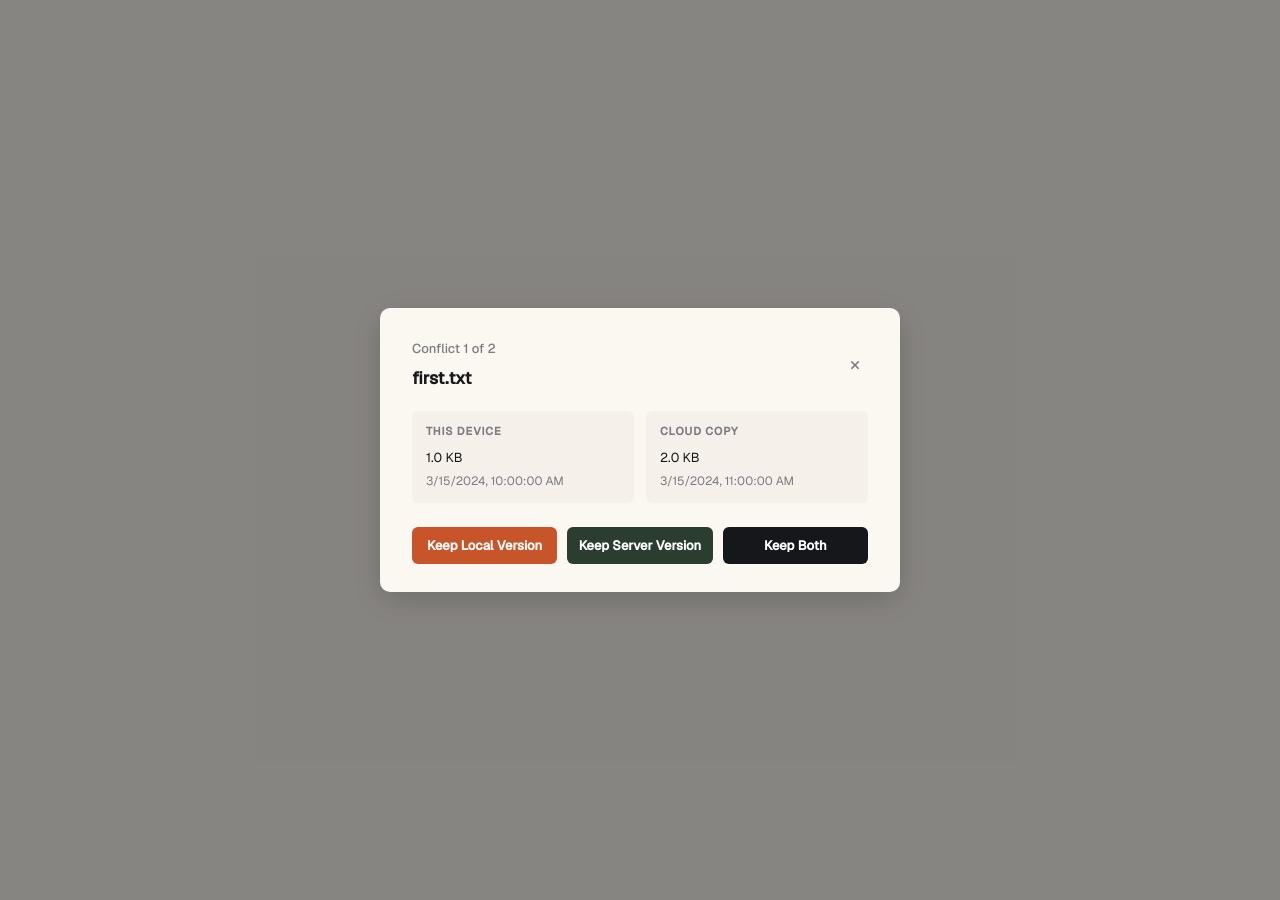
Test: ConflictWizard › auto-advances to next conflict after resolution
Expected: the heading "first.txt" is shown, [412,367,471,389]
Click the button "Keep Local Version".
click(485, 546)  # box [412,527,557,564]
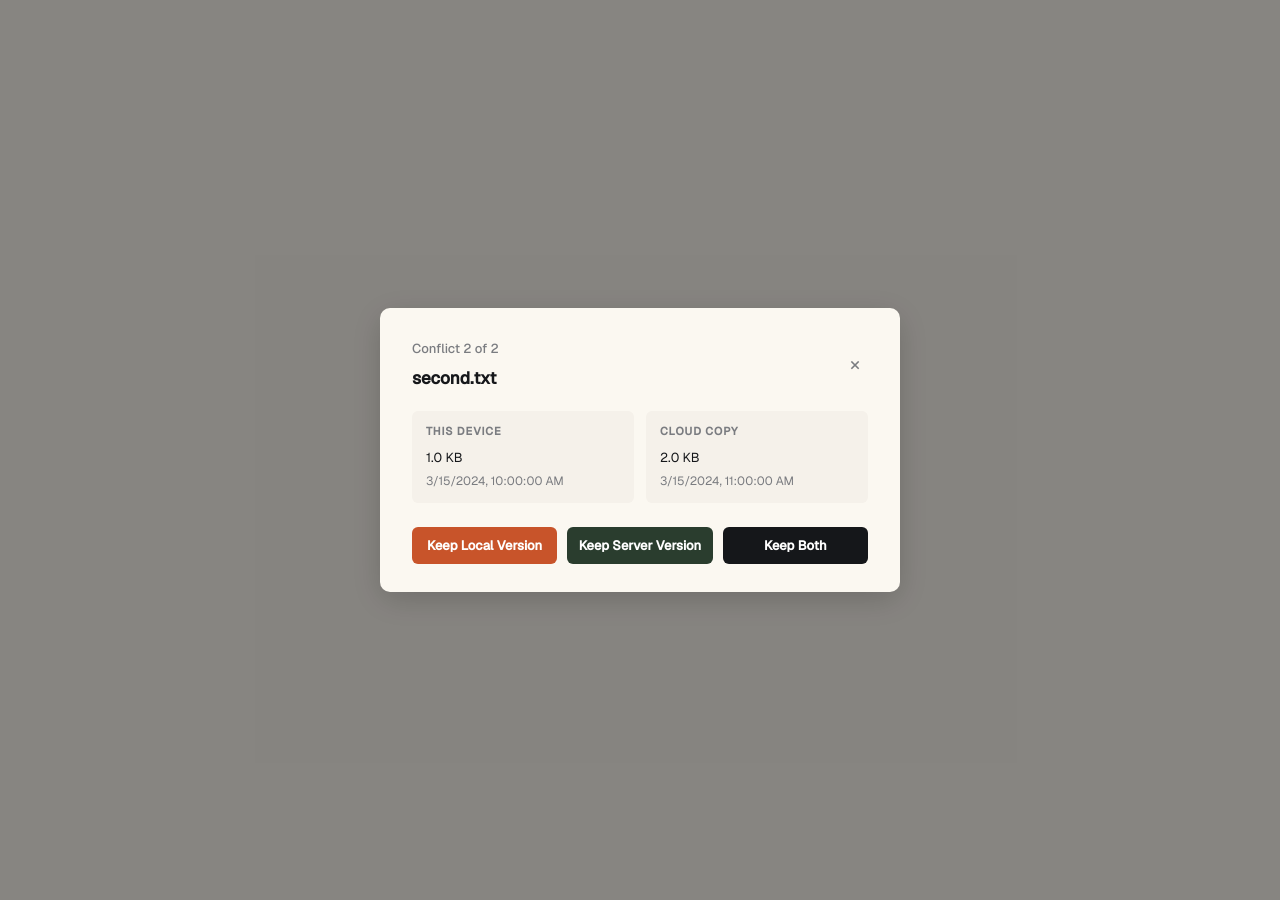
Expected: the heading "second.txt" is shown, [412,365,499,391]
